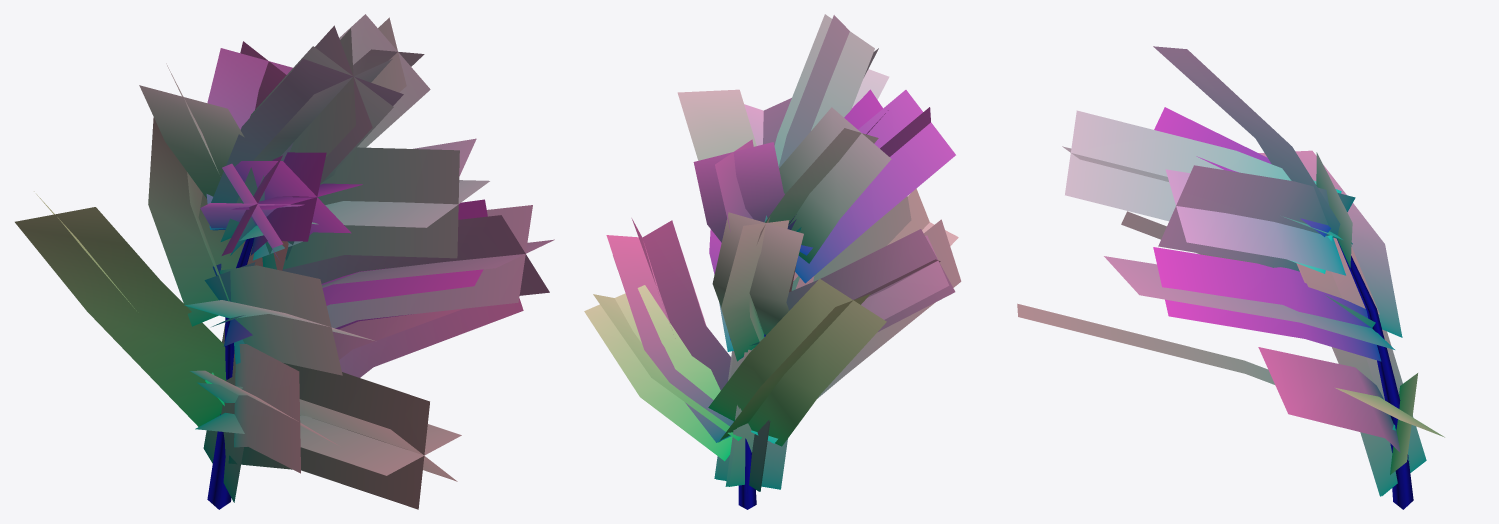
File: high-coast-foliage.glb
3 renders of one model, left to right at view 1: azimuth 30°, elevation 25°; view 2: azimuth 150°, elevation 25°; view 3: azimuth 270°, elevation 25°, orthographic. The views are drawn at different scales.
Parts seen in each view (by area): view 1: pine_shoots_0, pine_shoots_1; view 2: pine_shoots_0, pine_shoots_1; view 3: pine_shoots_0, pine_shoots_1.
Boxes of the visible parts, left/top/right/bottom form: pine_shoots_0: left=15, top=14, right=523, bottom=509; pine_shoots_1: left=190, top=25, right=554, bottom=509; pine_shoots_0: left=606, top=14, right=958, bottom=509; pine_shoots_1: left=584, top=15, right=961, bottom=509; pine_shoots_0: left=1017, top=110, right=1426, bottom=509; pine_shoots_1: left=1104, top=46, right=1444, bottom=509.
Bounding box in the file's own units: 0.6523 × 0.7695 × 0.6819.
